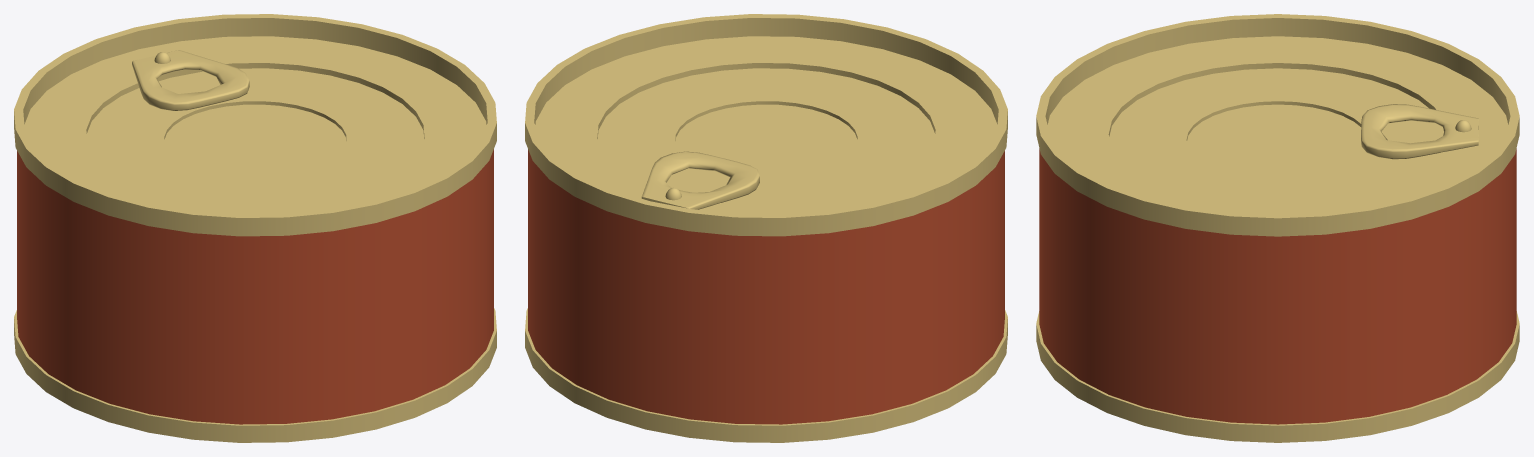
File: puszka.fbx
3 views of the same model, side by side, from view 1: azimuth 30°, elevation 25°; view 2: azimuth 150°, elevation 25°; view 3: azimuth 270°, elevation 25° (orthographic).
Parts seen in each view (by area): view 1: Cylinder.040, Cube.052; view 2: Cylinder.040, Cube.052; view 3: Cylinder.040, Cube.052.
Part boxes in pixels (x1,y1,x2,y2): Cylinder.040: [14, 14, 496, 442]; Cube.052: [132, 50, 249, 110]; Cylinder.040: [525, 14, 1007, 442]; Cube.052: [641, 151, 759, 209]; Cylinder.040: [1036, 14, 1519, 442]; Cube.052: [1361, 104, 1478, 159].
Bounding box in the file's own units: 77.05 × 39.5 × 77.05.
